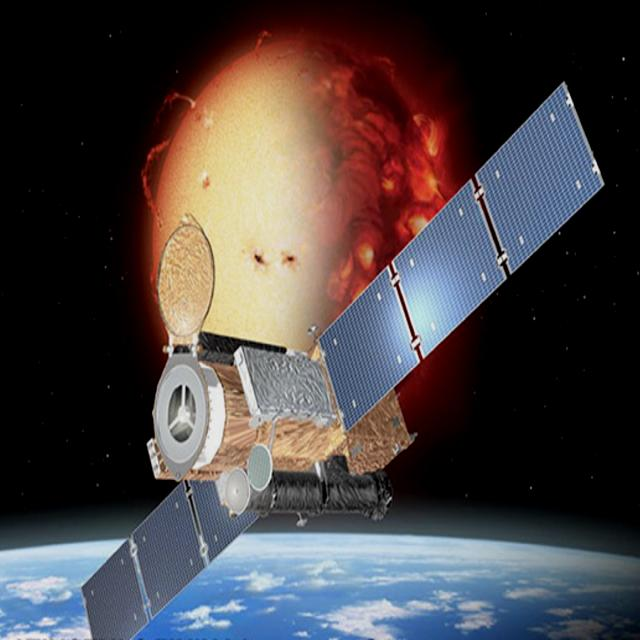satellite: (58, 66, 617, 640)
